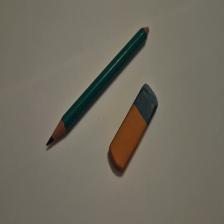eraser: (110, 83, 159, 173)
pencil: (47, 27, 150, 147)
